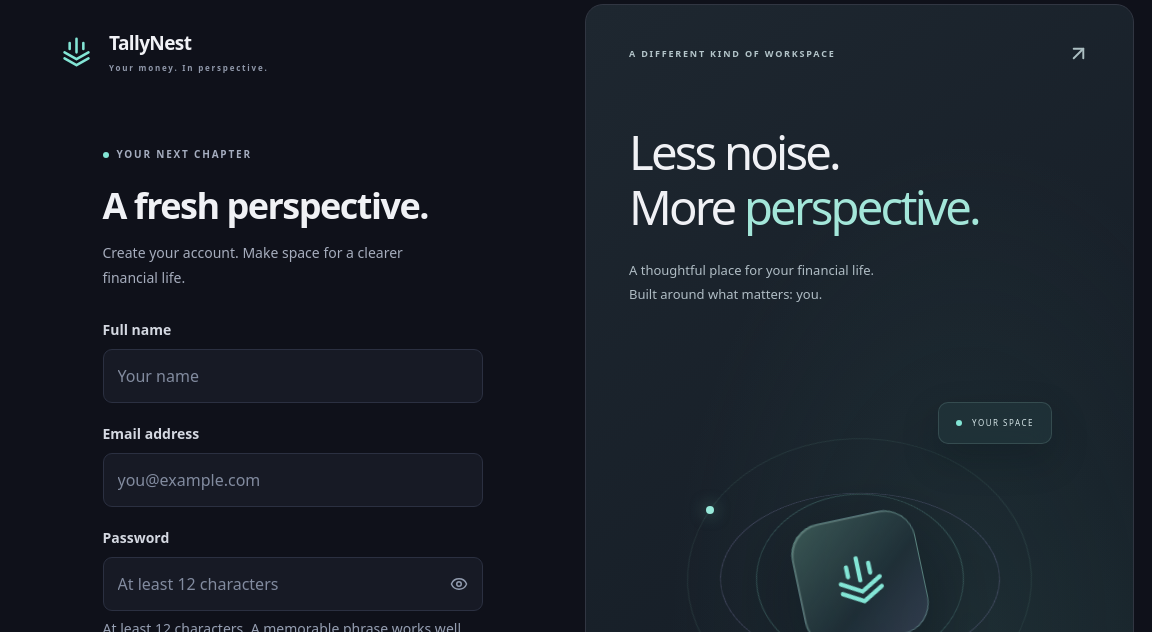
authentication screens and protected routes › registers a normalized user and enters the workspace
Type " Alex Rivera " into the field labelled "Full name" at (292, 376), box [104,350,482,402]
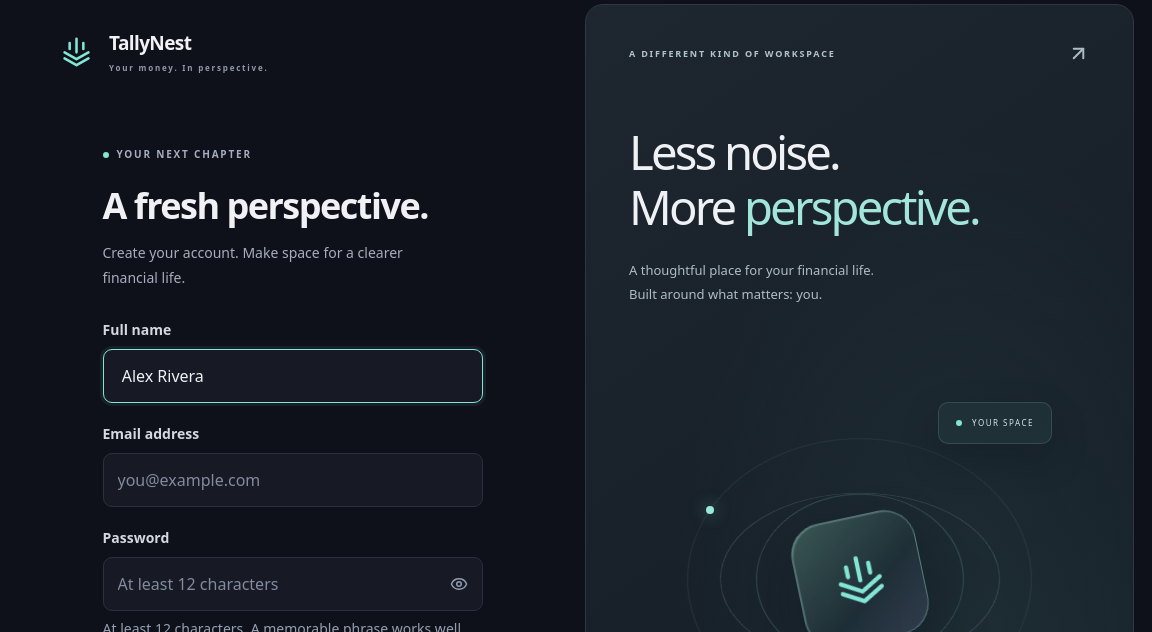
Type " ALEX@example.com " into the field labelled "Email address" at (292, 480), box [104,454,482,506]
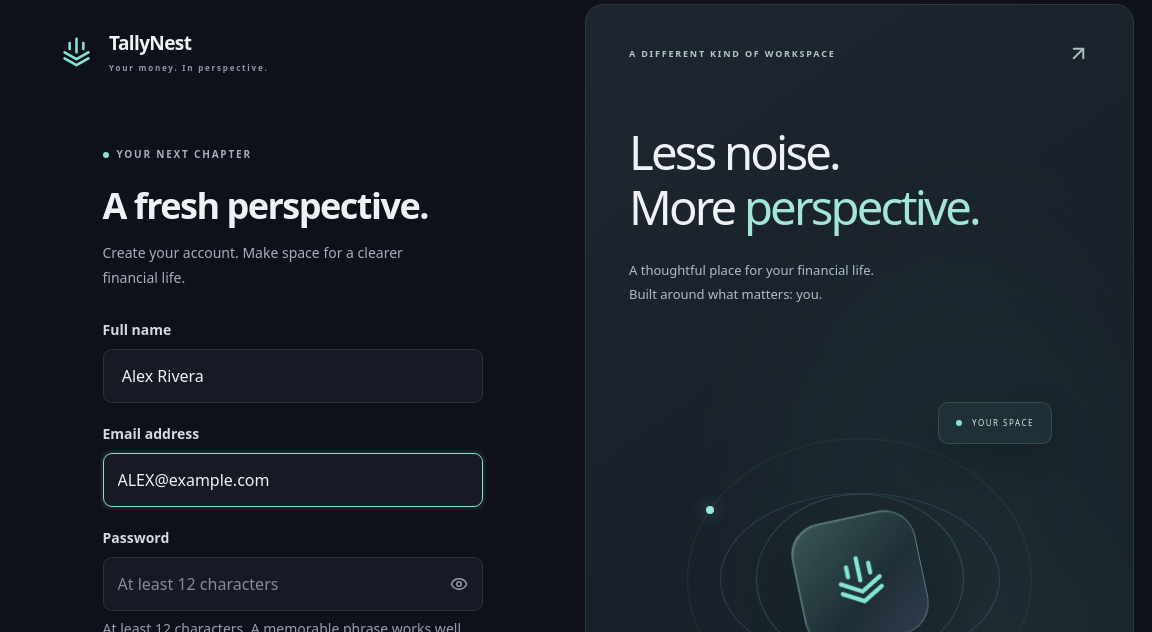
Type "correct horse battery" into the password field labelled "Password" at (270, 584), box [104,558,438,610]
(page scrolled)
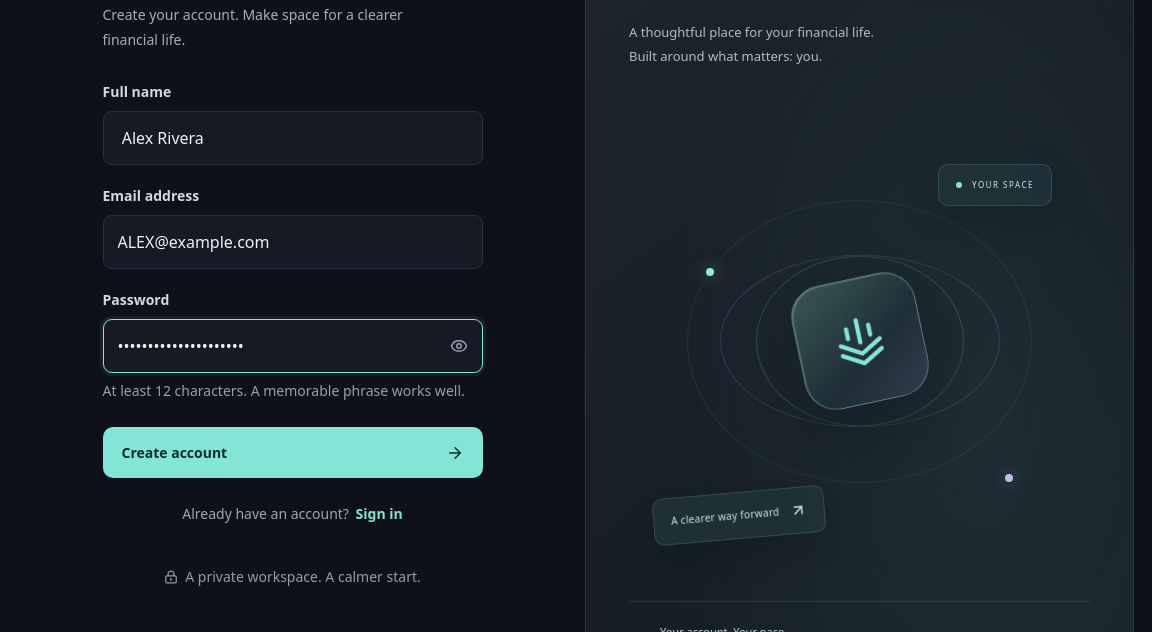
Click the button "Create account" at (174, 453), box [102,428,482,478]
(page scrolled)
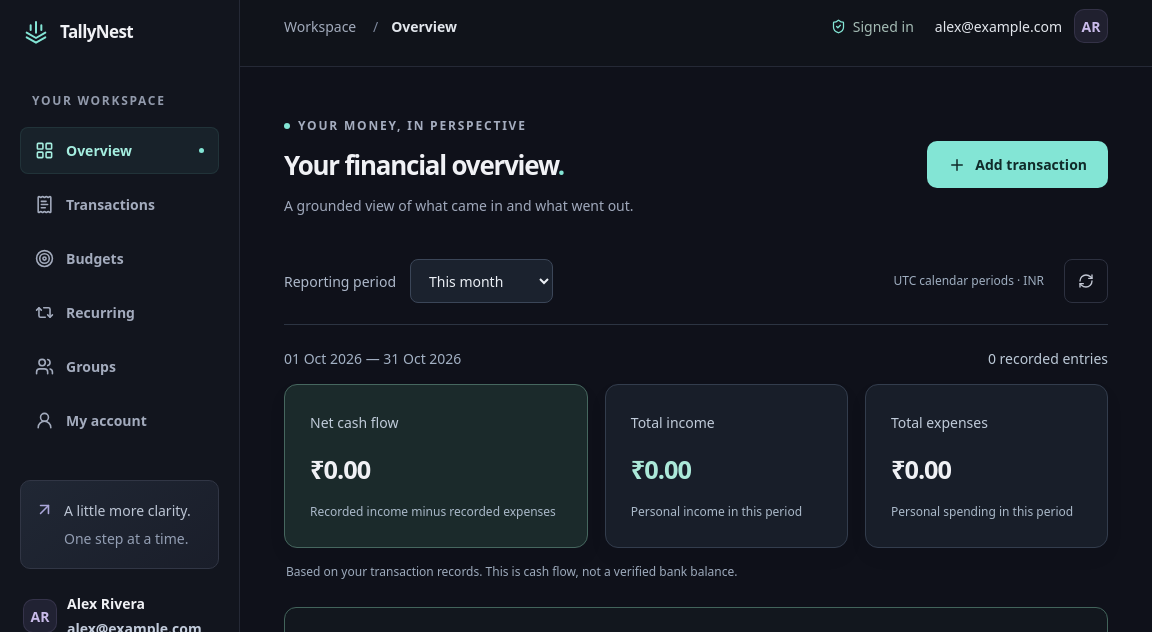
Result: the heading "Your financial overview." is shown at [284,147,564,183]
